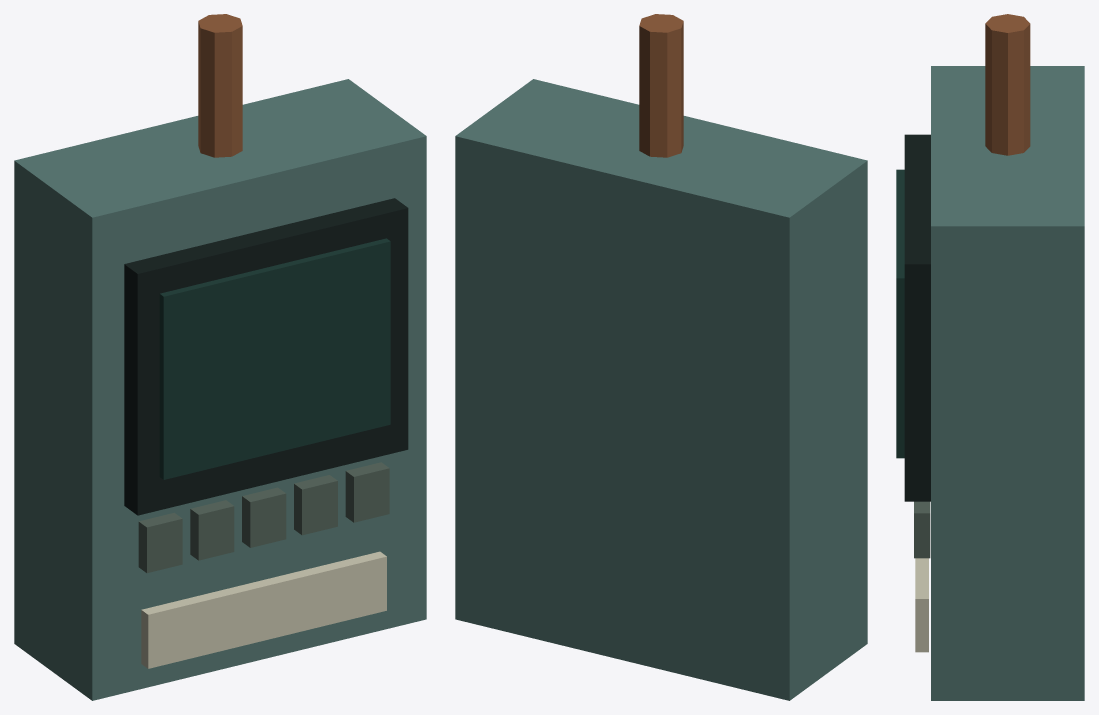
File: proximity_detector.glb
The picture shows the model from 3 angles, left to right: view 1: azimuth 30°, elevation 25°; view 2: azimuth 150°, elevation 25°; view 3: azimuth 270°, elevation 25°; orthographic projection.
Visible parts, largest first — view 1: detector_case, proximity_screen, detector_bezel, detector_blank_label, detector_receiver, distance_segment_1, distance_segment_2, distance_segment_4, distance_segment_0, distance_segment_3; view 2: detector_case, detector_receiver; view 3: detector_case, detector_bezel, detector_receiver, proximity_screen, detector_blank_label, distance_segment_4.
Boxes of the visible parts, x1,y1,x2,y2 form: detector_case: (14,79,426,700); proximity_screen: (159,238,390,479); detector_bezel: (124,198,408,515); detector_blank_label: (141,551,386,668); detector_receiver: (198,14,242,157); distance_segment_1: (190,500,234,560); distance_segment_2: (242,487,286,547); distance_segment_4: (345,462,389,522); distance_segment_0: (138,512,182,573); distance_segment_3: (294,475,337,535); detector_case: (455,79,867,700); detector_receiver: (639,14,683,157); detector_case: (931,66,1084,700); detector_bezel: (904,134,930,501); detector_receiver: (985,14,1030,155); proximity_screen: (896,169,904,458); detector_blank_label: (915,558,928,652); distance_segment_4: (914,501,930,558).
Size of the model in its own units: 0.42 by 0.73 by 0.2085.
